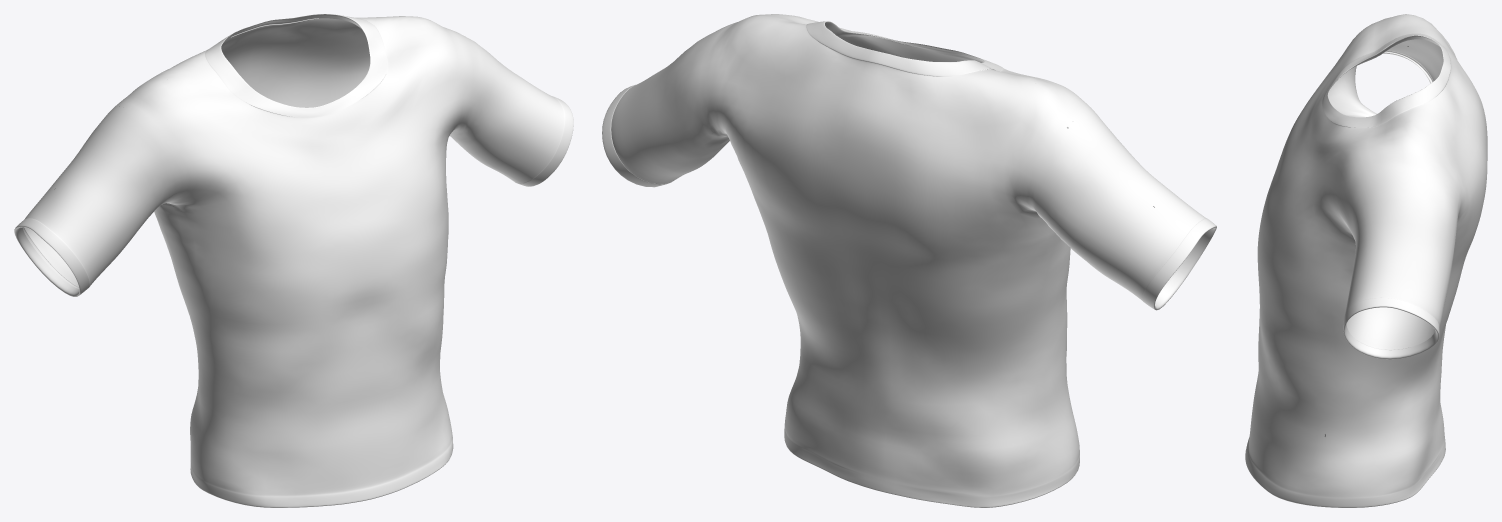
Rendered from Shirt.glb.
3 renders of one model, left to right at view 1: azimuth 30°, elevation 25°; view 2: azimuth 150°, elevation 25°; view 3: azimuth 270°, elevation 25°, orthographic. The views are drawn at different scales.
Visible parts, largest first — view 1: TShirt_for_Genesis.008; view 2: TShirt_for_Genesis.008; view 3: TShirt_for_Genesis.008.
Part boxes in pixels (bbox=[...]): TShirt_for_Genesis.008: bbox=[14, 14, 573, 507]; TShirt_for_Genesis.008: bbox=[602, 14, 1216, 507]; TShirt_for_Genesis.008: bbox=[1245, 14, 1487, 507].
Bounding box in the file's own units: 13.23 × 9.61 × 5.35.
1 material, 1 textured.
